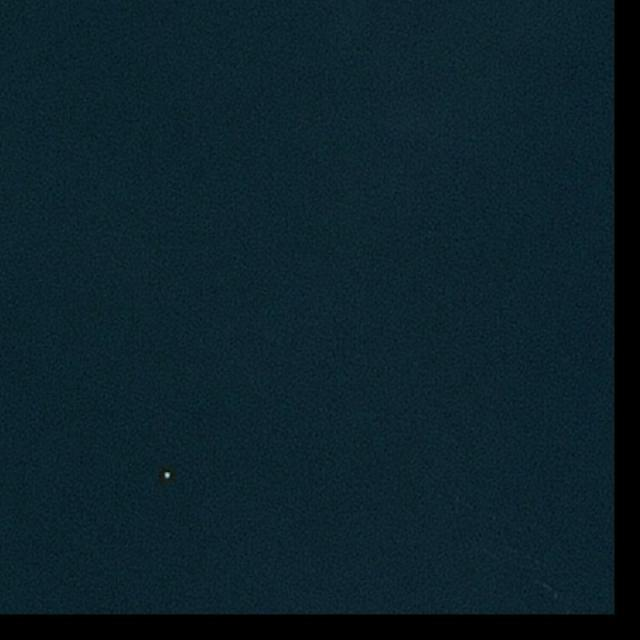ship: (166, 471, 170, 478)
